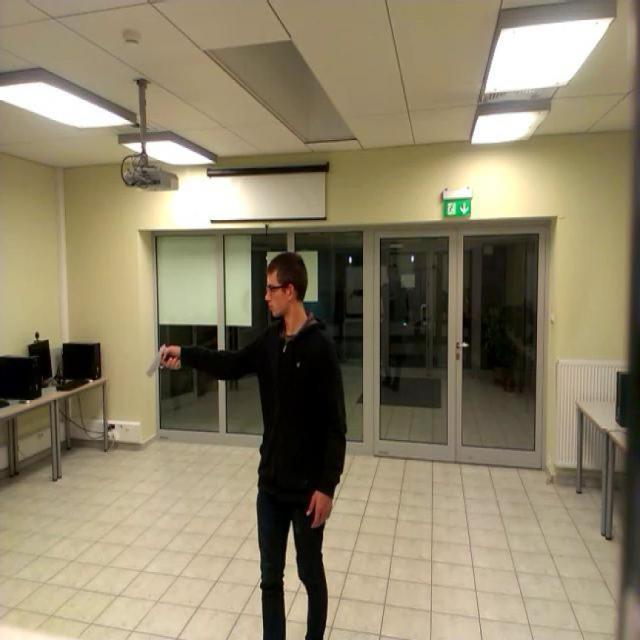pistol: (145, 343, 177, 376)
